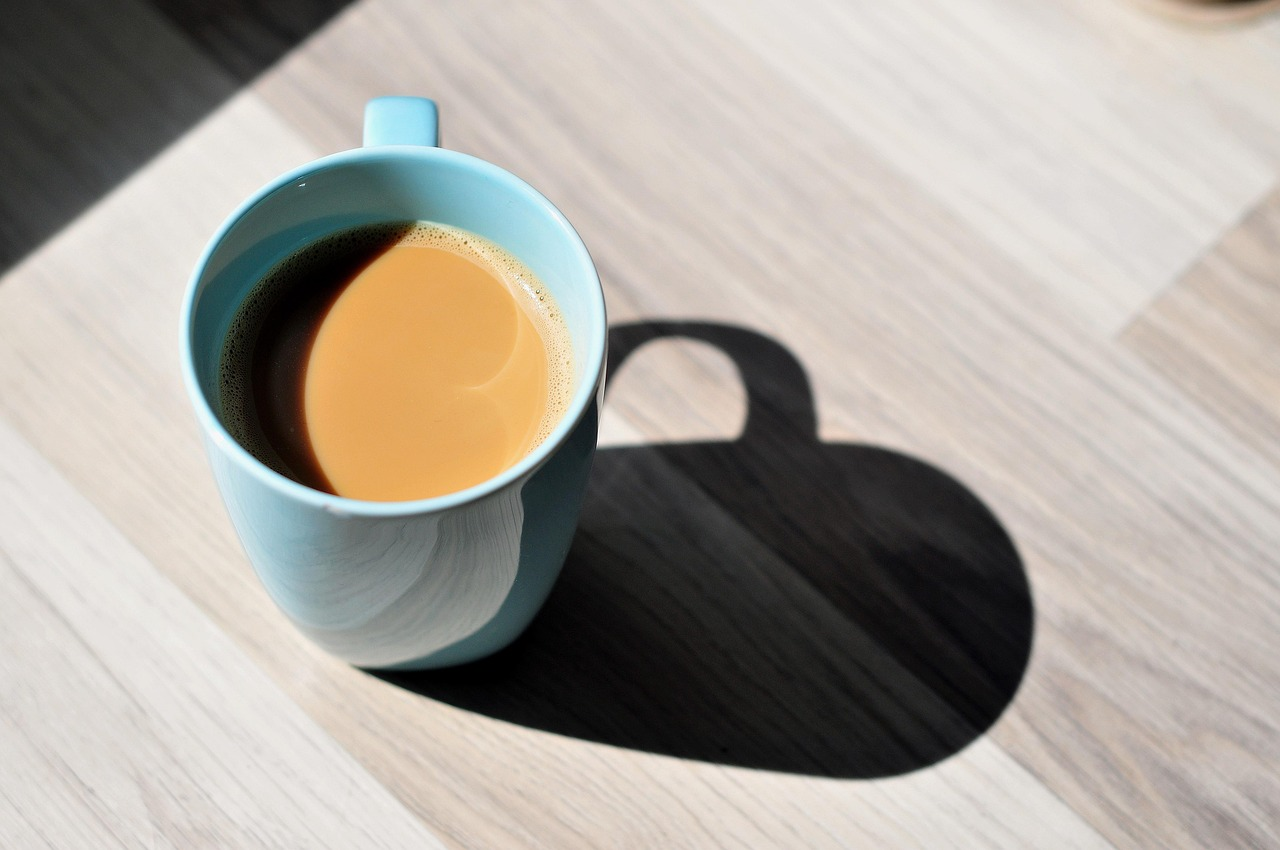mug: (146, 87, 624, 665)
